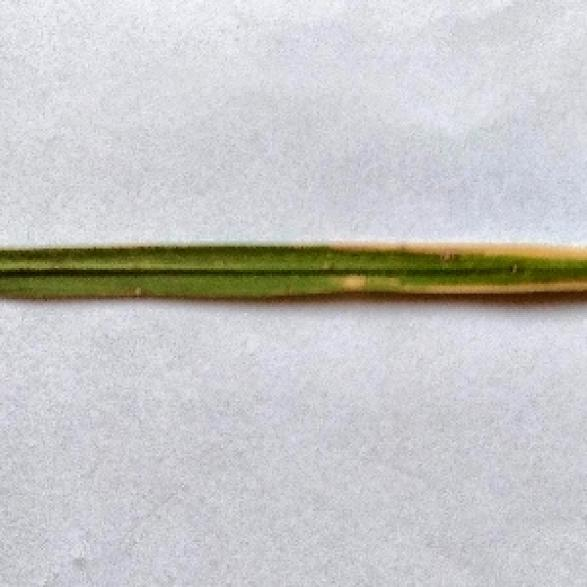Leaf_smut: (274, 229, 581, 293)
